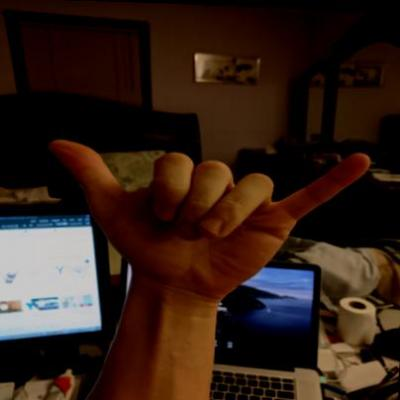hand: (39, 135, 376, 306)
